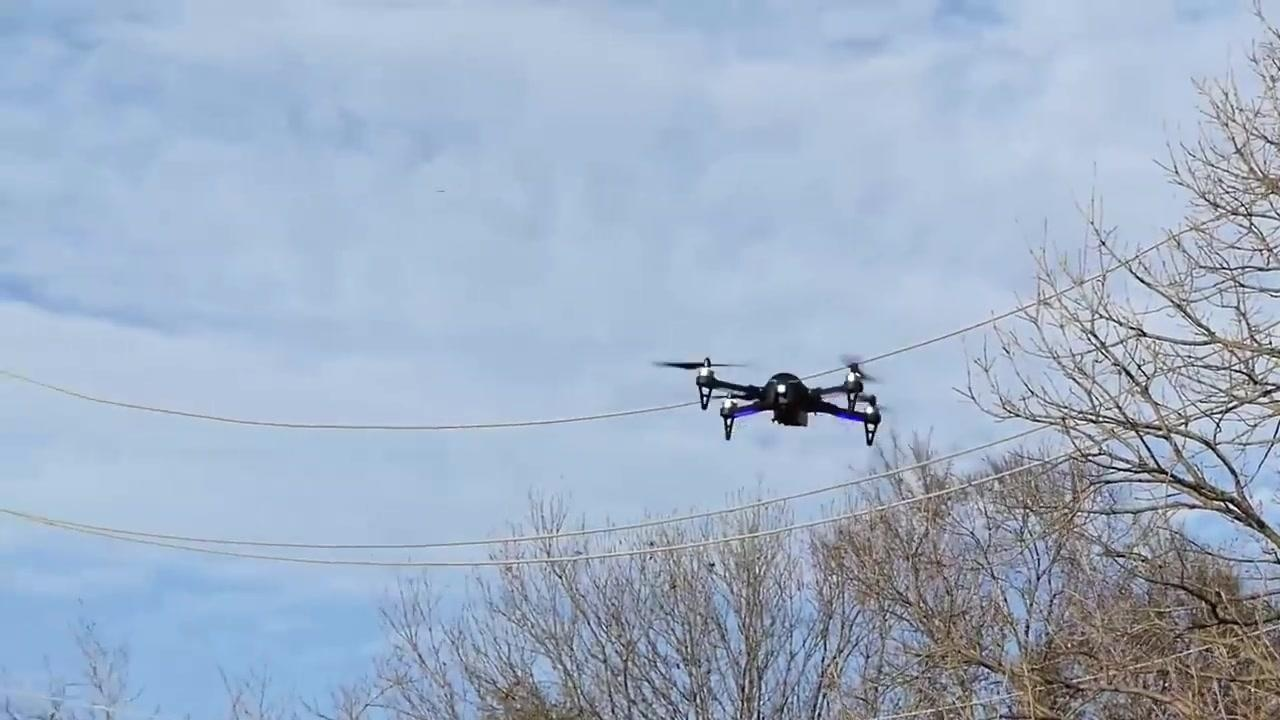UAV: (654, 355, 894, 449)
